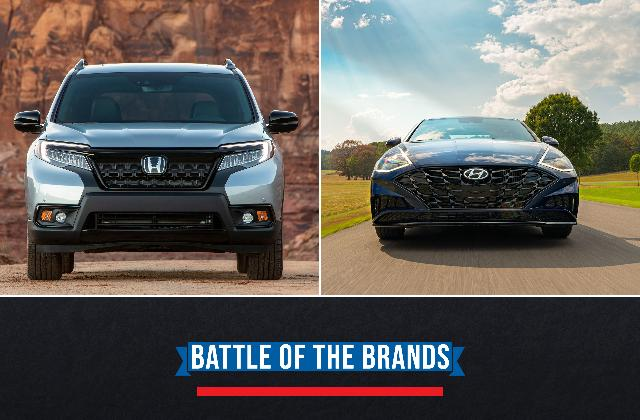hyundai: (12, 58, 300, 281)
